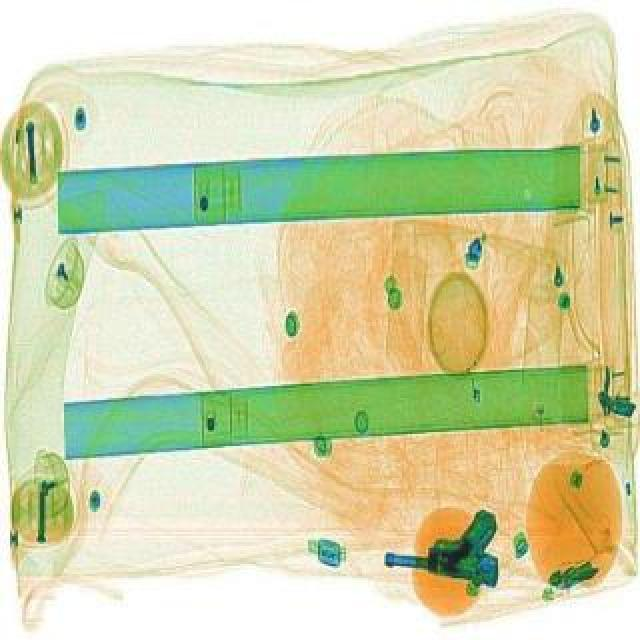gun: (380, 492, 508, 584)
